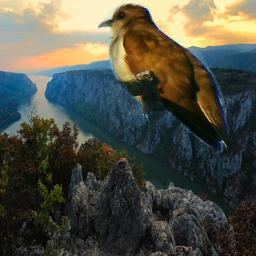Cuckoo: (98, 3, 227, 155)
